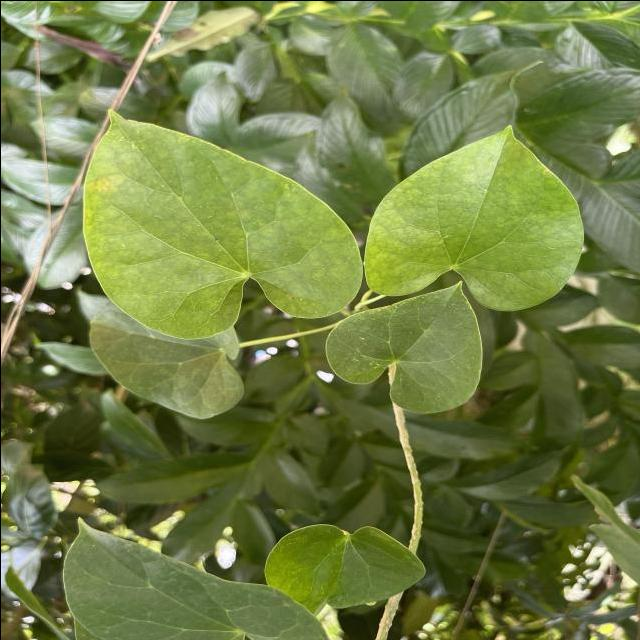Tinospora cordifolia: (78, 104, 364, 343), (361, 120, 586, 314), (323, 276, 486, 416)
